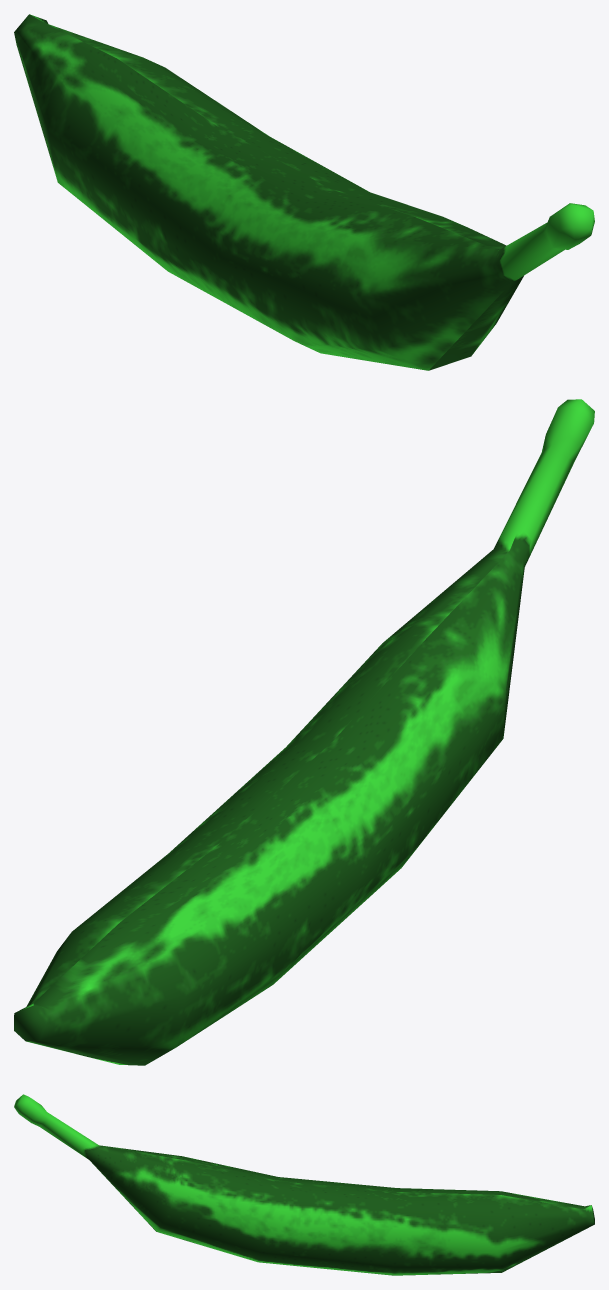
The model's file is banana.fbx.
3 renders of one model, top to bottom at view 1: azimuth 30°, elevation 25°; view 2: azimuth 150°, elevation 25°; view 3: azimuth 270°, elevation 25°, orthographic. The views are drawn at different scales.
Parts seen in each view (by area): view 1: Cylinder; view 2: Cylinder; view 3: Cylinder.
Part boxes in pixels (<box>): Cylinder: <box>14,14,594,370</box>; Cylinder: <box>14,399,594,1065</box>; Cylinder: <box>14,1094,594,1275</box>.
Bounding box in the file's own units: 130 × 856 × 286.
